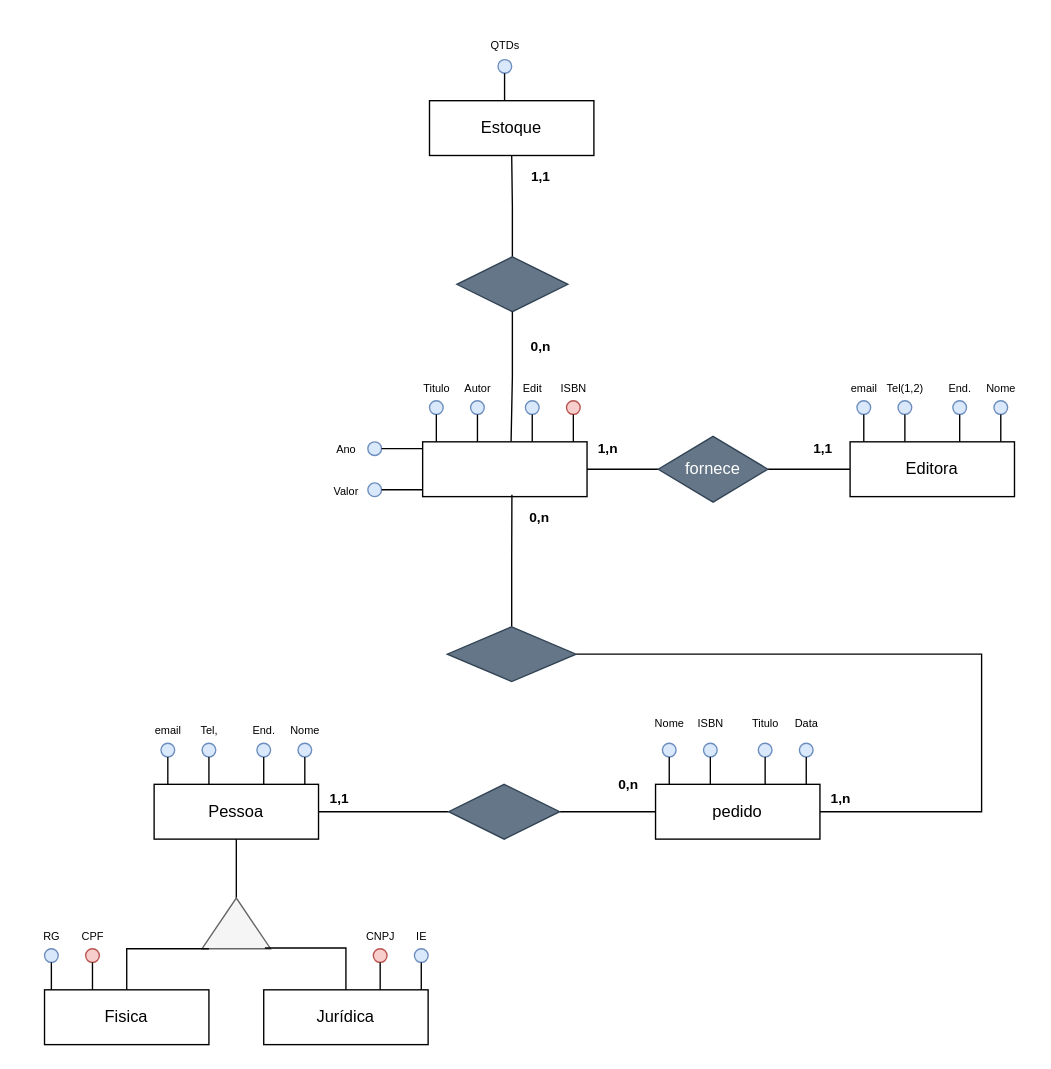
This 1051x1069 diagram has some shape labels left out. The centre of each missing label's shape, as x and y in pixels:
"adiciona" belongs at pixel 503 811.
"Compra" belongs at pixel 511 653.
"contem" belongs at pixel 512 284.
"Livro" belongs at pixel 504 468.
